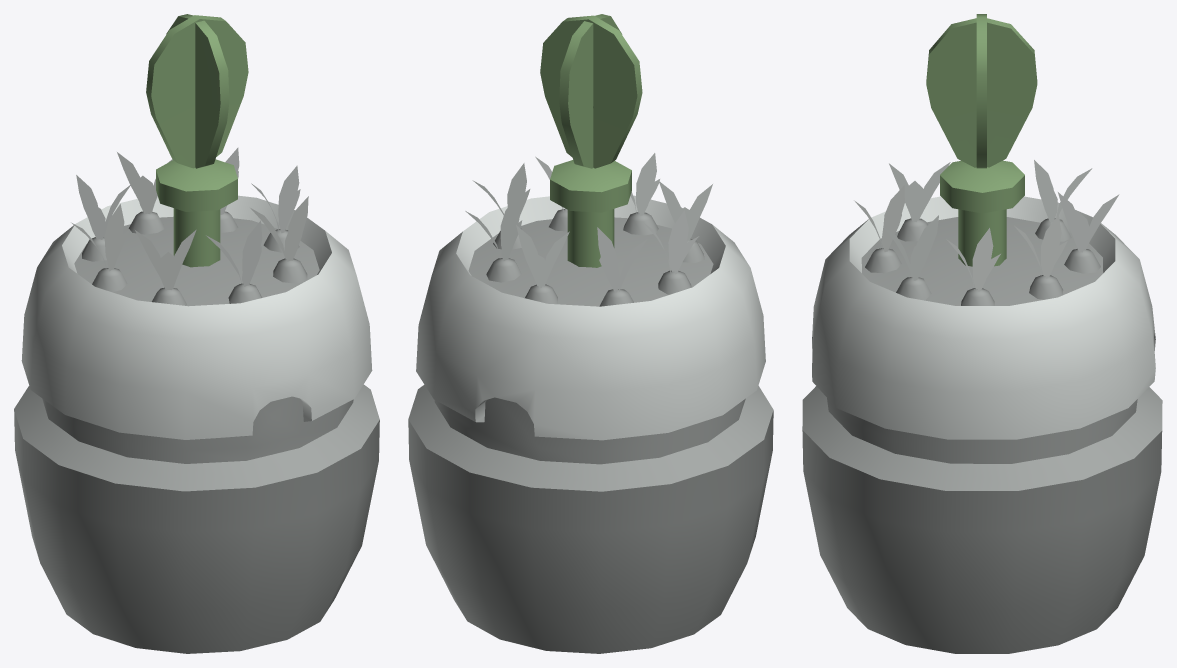
3 renders of one model, left to right at view 1: azimuth 30°, elevation 25°; view 2: azimuth 150°, elevation 25°; view 3: azimuth 270°, elevation 25°, orthographic.
Visible parts, largest first — view 1: G:\FFXIV-MapTools\exports\u5f1\bg\ex4\04_uvs_u5\fld\u5f1\bgp (×6); view 2: G:\FFXIV-MapTools\exports\u5f1\bg\ex4\04_uvs_u5\fld\u5f1\bgp (×6); view 3: G:\FFXIV-MapTools\exports\u5f1\bg\ex4\04_uvs_u5\fld\u5f1\bgp (×6).
Part boxes in pixels (<box>): G:\FFXIV-MapTools\exports\u5f1\bg\ex4\04_uvs_u5\fld\u5f1\bgp (×6): <box>14,14,379,653</box>; G:\FFXIV-MapTools\exports\u5f1\bg\ex4\04_uvs_u5\fld\u5f1\bgp (×6): <box>408,14,773,653</box>; G:\FFXIV-MapTools\exports\u5f1\bg\ex4\04_uvs_u5\fld\u5f1\bgp (×6): <box>802,14,1162,653</box>.
Size of the model in its own units: 2.11 by 3.74 by 2.11.
